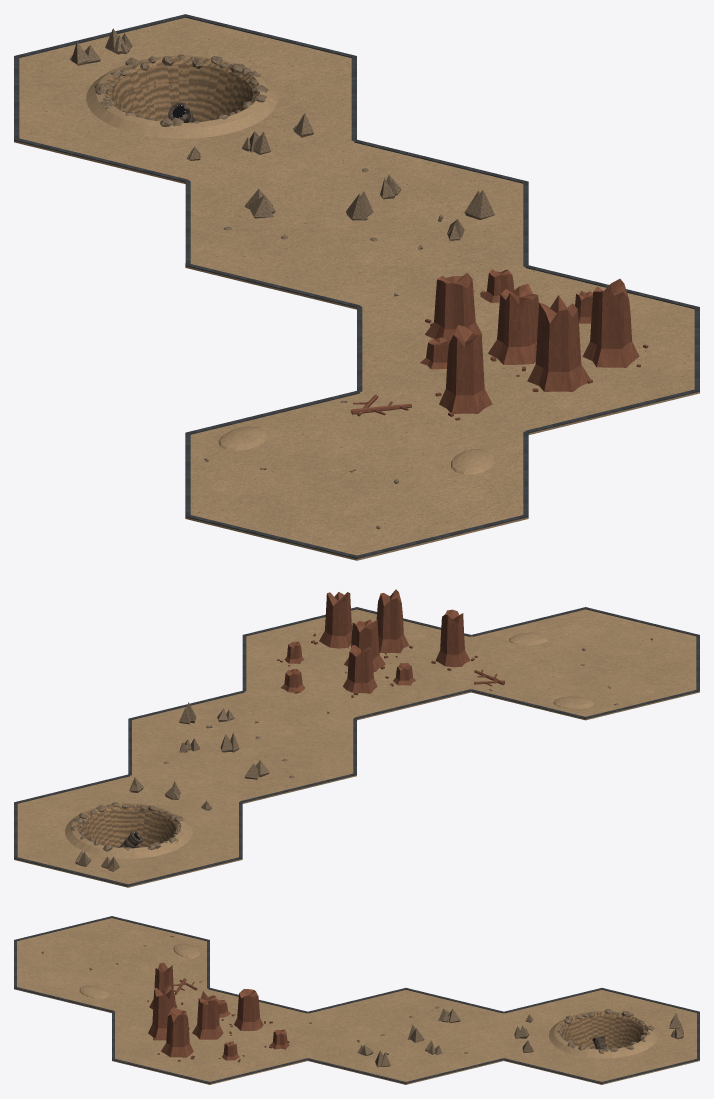
Rendered from WasteHex_Arch.glb.
3 renders of one model, top to bottom at view 1: azimuth 30°, elevation 25°; view 2: azimuth 150°, elevation 25°; view 3: azimuth 270°, elevation 25°, orthographic. The views are drawn at different scales.
Parts seen in each view (by area): view 1: WasteHex_Arch_Ground, WasteHex_Arch_Prop_Petrified, WasteHex_Arch_GroundTrim, WasteHex_Arch_Prop_PitWall, WasteHex_Arch_Prop_Salt, WasteHex_Arch_Prop_PitRim, WasteHex_Arch_Prop_Rock, WasteHex_Arch_Prop_Drift; view 2: WasteHex_Arch_Ground, WasteHex_Arch_Prop_Petrified, WasteHex_Arch_GroundTrim, WasteHex_Arch_Prop_PitWall, WasteHex_Arch_Prop_Salt, WasteHex_Arch_Prop_PitRim, WasteHex_Arch_Prop_Rock, WasteHex_Arch_Prop_Drift; view 3: WasteHex_Arch_Ground, WasteHex_Arch_Prop_Petrified, WasteHex_Arch_GroundTrim, WasteHex_Arch_Prop_PitWall, WasteHex_Arch_Prop_Salt, WasteHex_Arch_Prop_PitRim, WasteHex_Arch_Prop_Rock, WasteHex_Arch_Prop_Drift.
Boxes of the visible parts, bbox=[...] form: WasteHex_Arch_Ground: bbox=[14, 17, 699, 560]; WasteHex_Arch_Prop_Petrified: bbox=[420, 269, 648, 420]; WasteHex_Arch_GroundTrim: bbox=[14, 14, 699, 558]; WasteHex_Arch_Prop_PitWall: bbox=[104, 57, 259, 121]; WasteHex_Arch_Prop_Salt: bbox=[70, 28, 494, 240]; WasteHex_Arch_Prop_PitRim: bbox=[86, 55, 277, 138]; WasteHex_Arch_Prop_Rock: bbox=[94, 54, 268, 126]; WasteHex_Arch_Prop_Drift: bbox=[218, 426, 495, 474]; WasteHex_Arch_Ground: bbox=[14, 609, 699, 887]; WasteHex_Arch_Prop_Petrified: bbox=[277, 589, 477, 697]; WasteHex_Arch_GroundTrim: bbox=[14, 607, 699, 886]; WasteHex_Arch_Prop_PitWall: bbox=[76, 804, 180, 847]; WasteHex_Arch_Prop_Salt: bbox=[75, 702, 269, 871]; WasteHex_Arch_Prop_PitRim: bbox=[65, 803, 192, 858]; WasteHex_Arch_Prop_Rock: bbox=[70, 802, 183, 851]; WasteHex_Arch_Prop_Drift: bbox=[509, 632, 594, 709]; WasteHex_Arch_Ground: bbox=[14, 918, 699, 1084]; WasteHex_Arch_Prop_Petrified: bbox=[147, 962, 289, 1062]; WasteHex_Arch_GroundTrim: bbox=[14, 916, 699, 1083]; WasteHex_Arch_Prop_PitWall: bbox=[559, 1012, 648, 1048]; WasteHex_Arch_Prop_Salt: bbox=[357, 1008, 683, 1067]; WasteHex_Arch_Prop_PitRim: bbox=[548, 1011, 658, 1058]; WasteHex_Arch_Prop_Rock: bbox=[557, 1009, 654, 1053]; WasteHex_Arch_Prop_Drift: bbox=[79, 943, 200, 998].
Size of the model in its own units: 21 by 4.54 by 36.37.
Materials: 11 (11 with a texture image).
